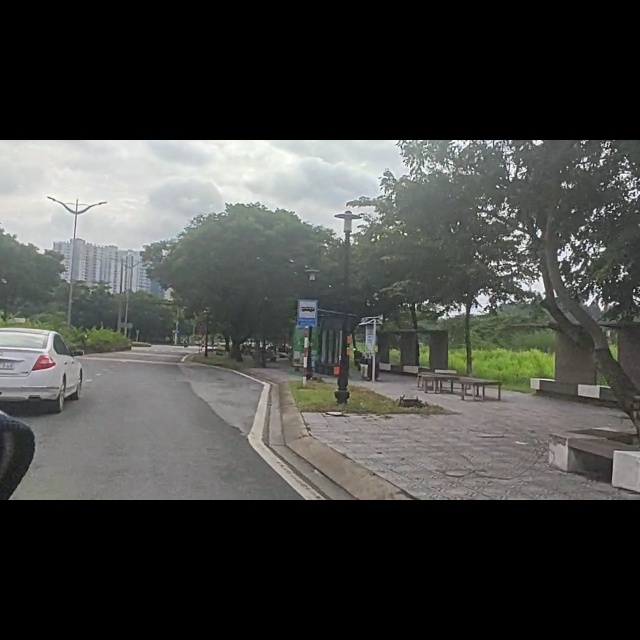bien_hieu_lenh: (294, 281, 323, 337)
